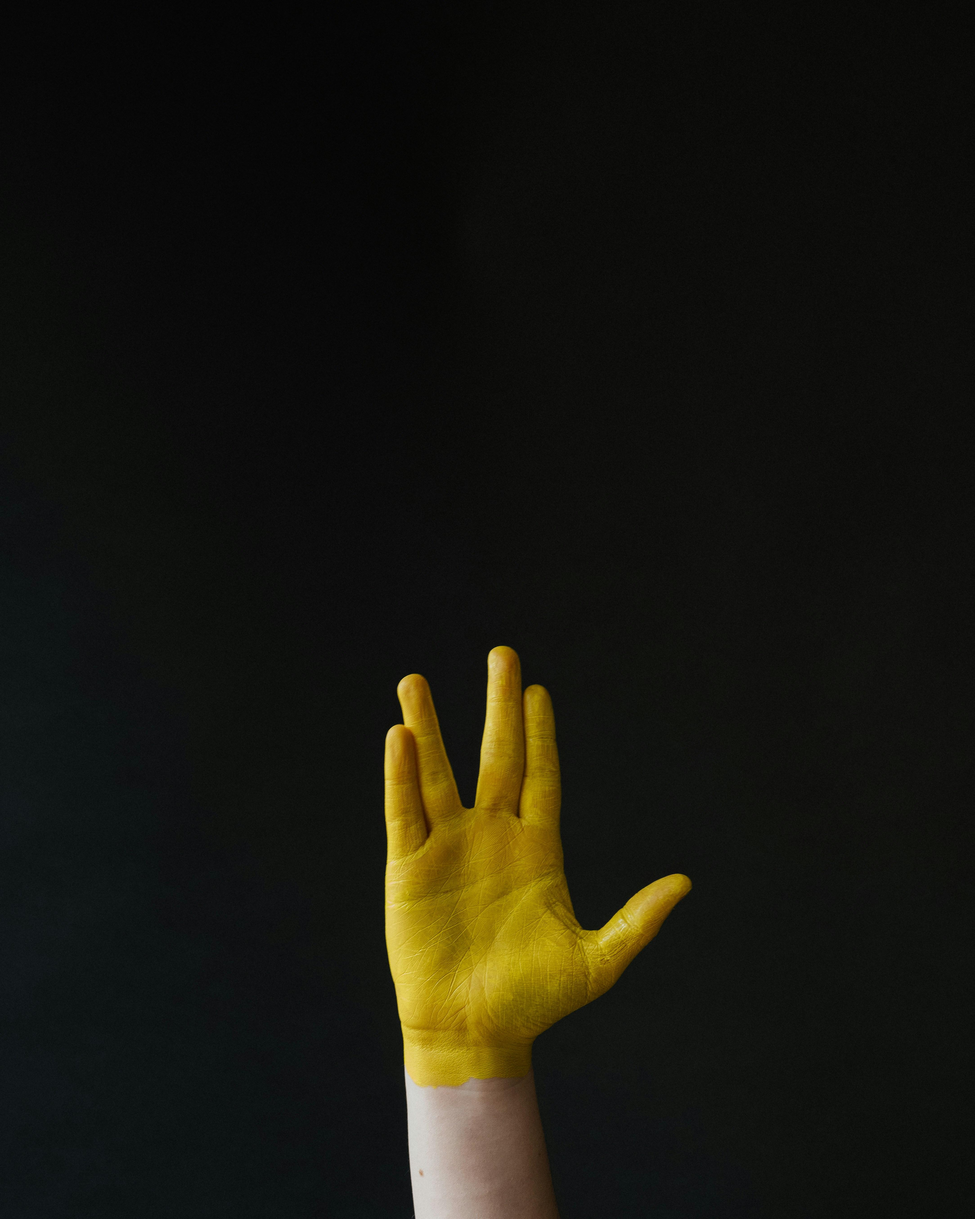family ring: (580, 931, 596, 999)
fate line: (467, 855, 494, 1003)
girdle of venus: (416, 827, 523, 880)
head line: (431, 870, 555, 949)
heart line: (406, 845, 544, 898)
life line: (453, 869, 556, 994)
